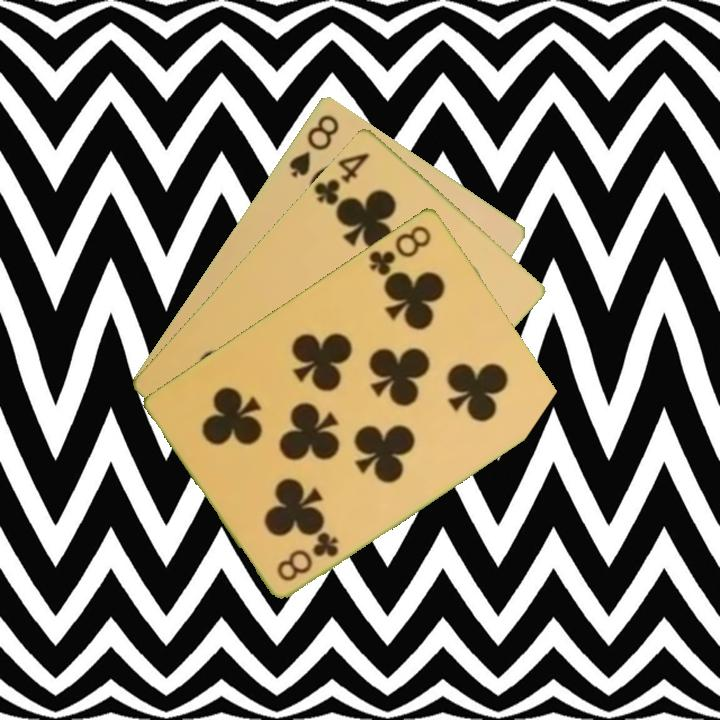4c: (310, 148, 372, 208)
8c: (365, 221, 435, 279), (273, 528, 342, 584)
8s: (285, 110, 342, 180)
